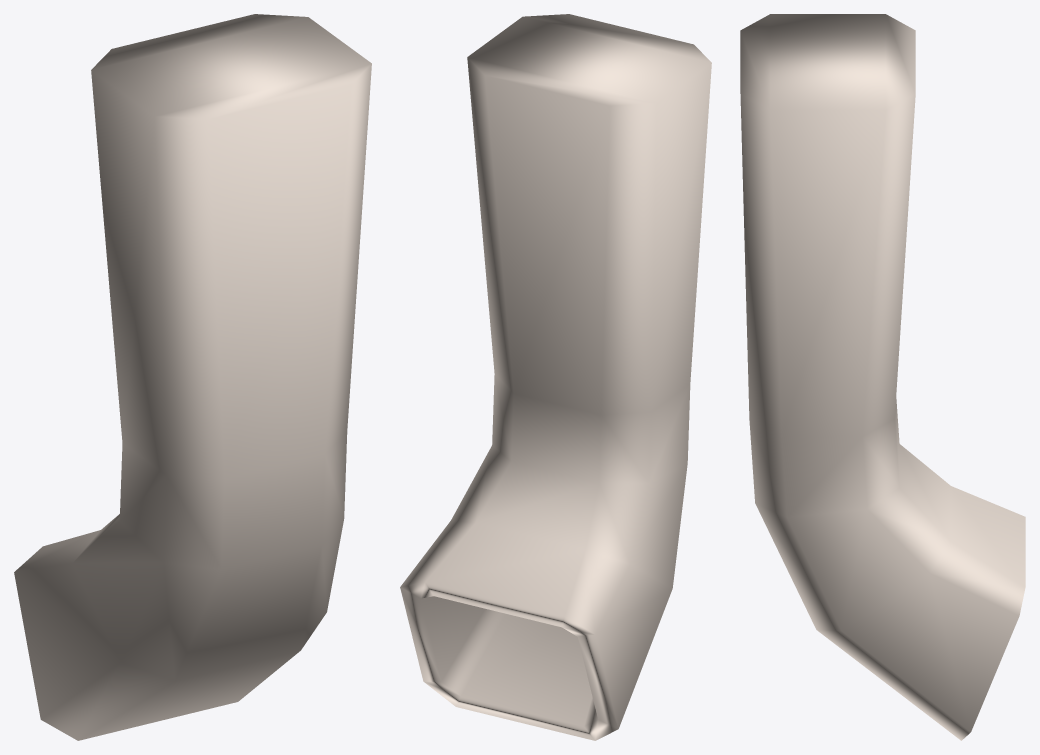
3 renders of one model, left to right at view 1: azimuth 30°, elevation 25°; view 2: azimuth 150°, elevation 25°; view 3: azimuth 270°, elevation 25°, orthographic. The views are drawn at different scales.
Parts seen in each view (by area): view 1: Fp405_Cube_1411; view 2: Fp405_Cube_1411; view 3: Fp405_Cube_1411.
Part boxes in pixels (x1=…): Fp405_Cube_1411: x1=14, y1=14, x2=371, y2=740; Fp405_Cube_1411: x1=400, y1=14, x2=711, y2=740; Fp405_Cube_1411: x1=740, y1=14, x2=1025, y2=740.
Size of the model in its own units: 0.0637 by 0.1924 by 0.0772.
